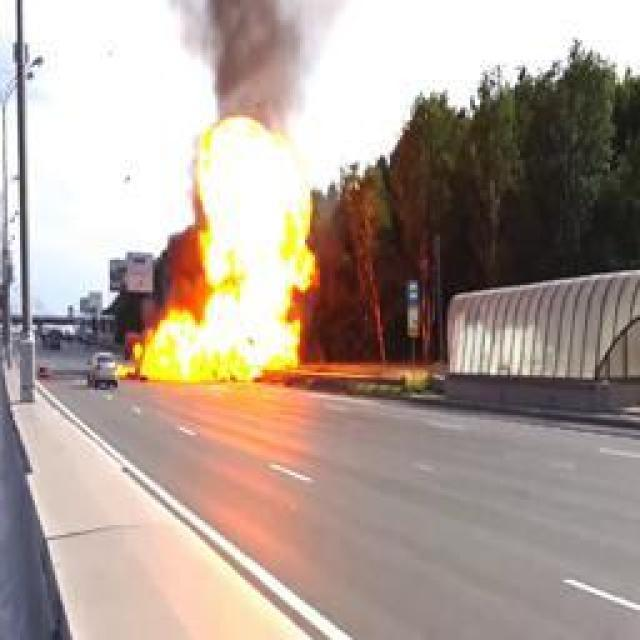Fire: (136, 115, 319, 388)
